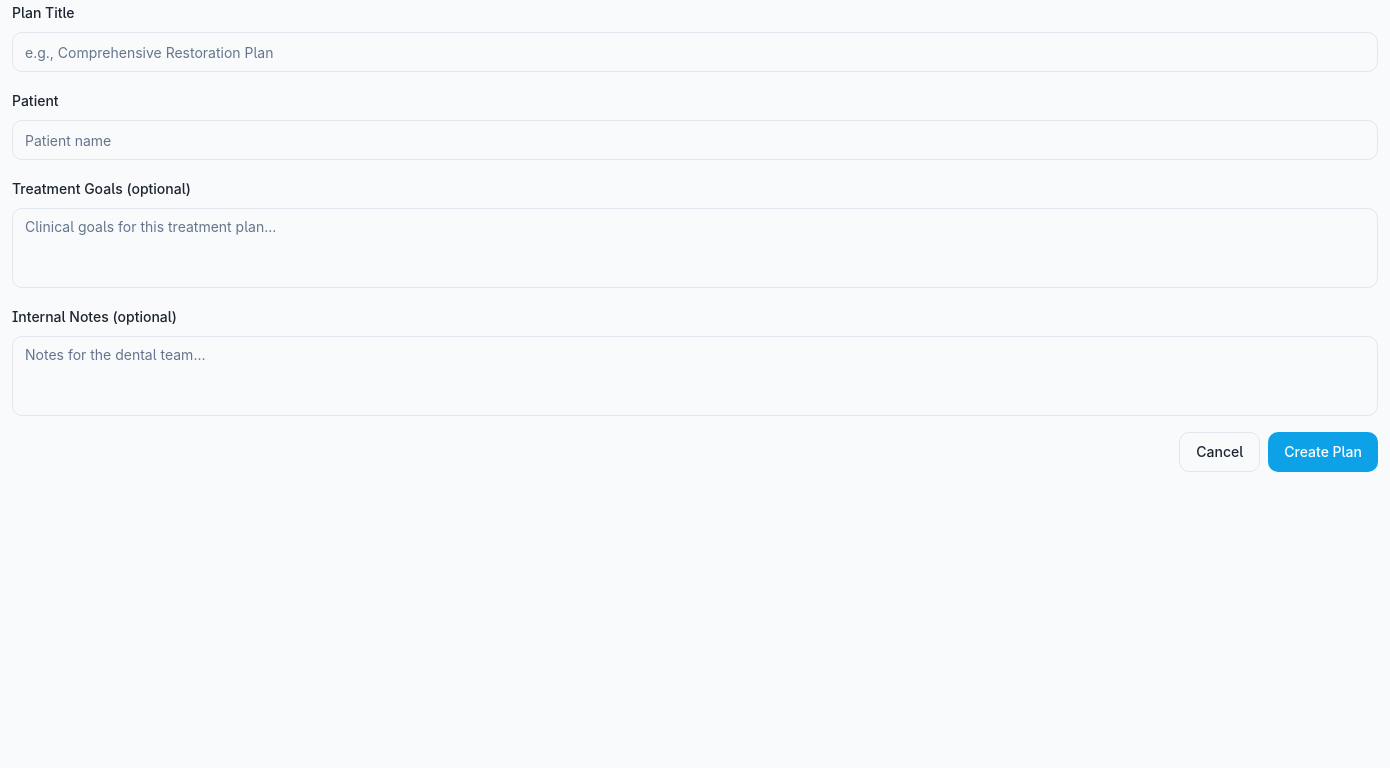
TreatmentPlanForm › should display validation errors
This screenshot has width=1390, height=768.
Step 1. Click the button "Create Plan" → (1323, 452), box [1268, 432, 1378, 472]
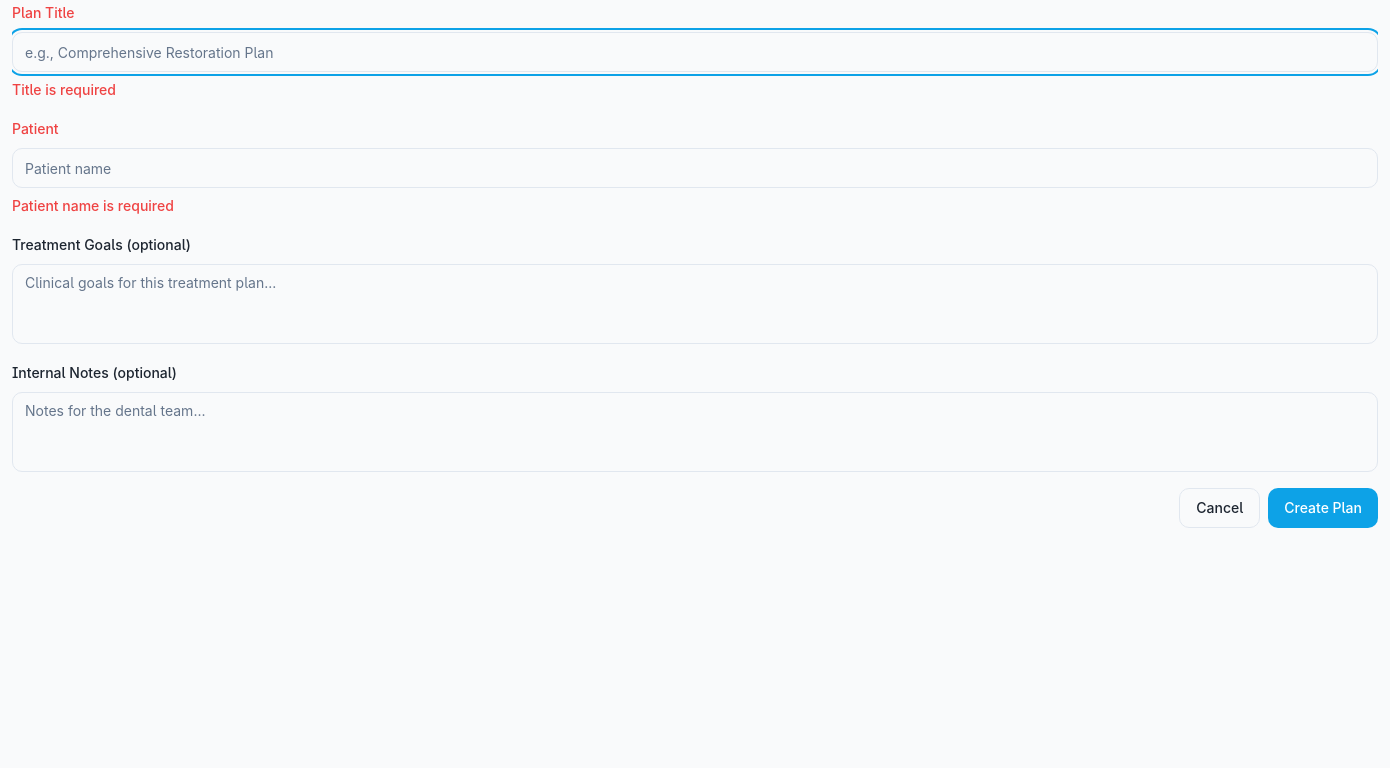
Check: the text "Title is required" is shown, box [12, 81, 116, 98]
